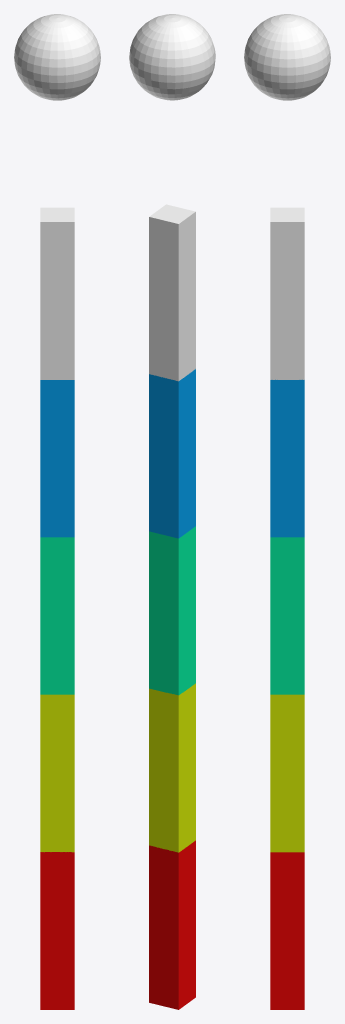
File: CCDIKTest_NegOffset.glb
3 renders of one model, left to right at view 1: azimuth 90°, elevation 25°; view 2: azimuth 150°, elevation 25°; view 3: azimuth 270°, elevation 25°, orthographic.
Visible parts, largest first — view 1: Link.004, Target, Link.001, Link.003, Link.002, Link.000; view 2: Link.004, Link.003, Link.000, Link.001, Link.002, Target; view 3: Link.004, Target, Link.001, Link.003, Link.002, Link.000.
Part boxes in pixels (bbox=[...]): Link.004: bbox=[40, 207, 74, 379]; Target: bbox=[14, 14, 100, 100]; Link.001: bbox=[40, 694, 74, 852]; Link.003: bbox=[40, 380, 74, 537]; Link.002: bbox=[40, 537, 74, 694]; Link.000: bbox=[40, 852, 74, 1009]; Link.004: bbox=[149, 204, 195, 381]; Link.003: bbox=[149, 369, 195, 538]; Link.000: bbox=[149, 840, 195, 1009]; Link.001: bbox=[149, 683, 195, 852]; Link.002: bbox=[149, 526, 195, 695]; Target: bbox=[129, 14, 215, 100]; Link.004: bbox=[270, 207, 304, 379]; Target: bbox=[244, 14, 330, 100]; Link.001: bbox=[270, 694, 304, 852]; Link.003: bbox=[270, 379, 304, 537]; Link.002: bbox=[270, 537, 304, 694]; Link.000: bbox=[270, 852, 304, 1009].
Bounding box in the file's own units: 0.5 × 6.25 × 0.5.
